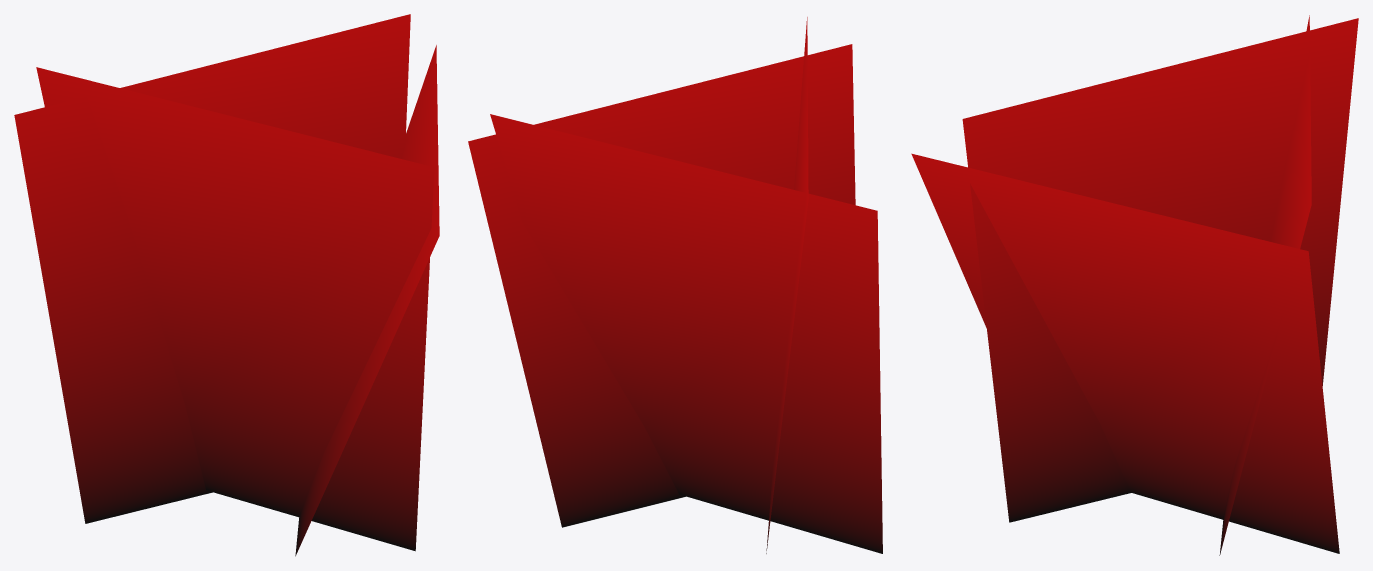
File: Lavender.fbx
3 views of the same model, side by side, from view 1: azimuth 30°, elevation 25°; view 2: azimuth 150°, elevation 25°; view 3: azimuth 270°, elevation 25° (orthographic). The views are drawn at different scales.
Parts seen in each view (by area): view 1: Lavender; view 2: Lavender; view 3: Lavender.
Boxes of the visible parts, x1,y1,x2,y2 form: Lavender: (14,14,439,556); Lavender: (468,17,882,553); Lavender: (911,15,1358,555).
Bounding box in the file's own units: 48.89 × 45.31 × 45.03.
